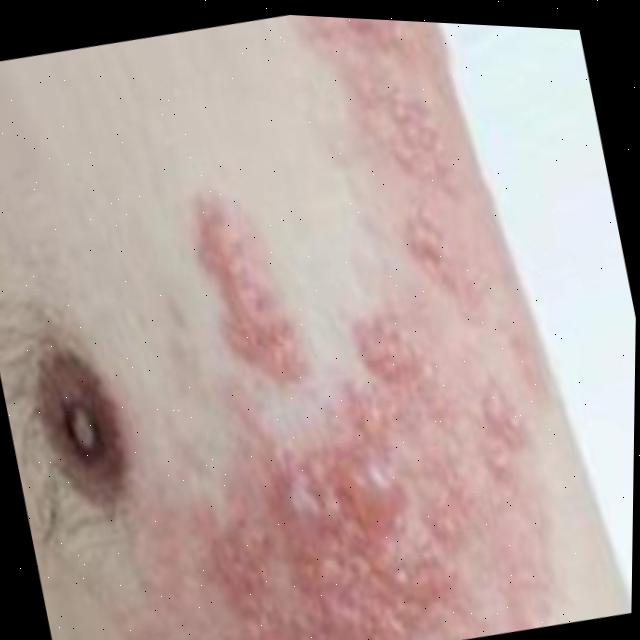Shingles: (107, 6, 561, 640)
